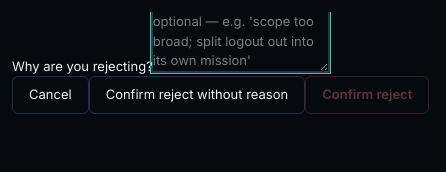
Test: PlanRejectForm › surfaces an inline error and stays open when rejectPlan returns error status
Click the button "Confirm reject without reason": (197, 95) [89,76,305,114]
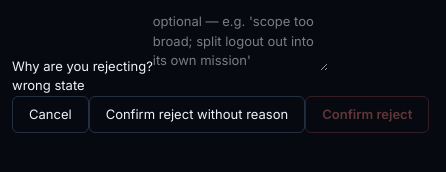
Expected: the text "wrong state" is shown, [12,77,85,93]
